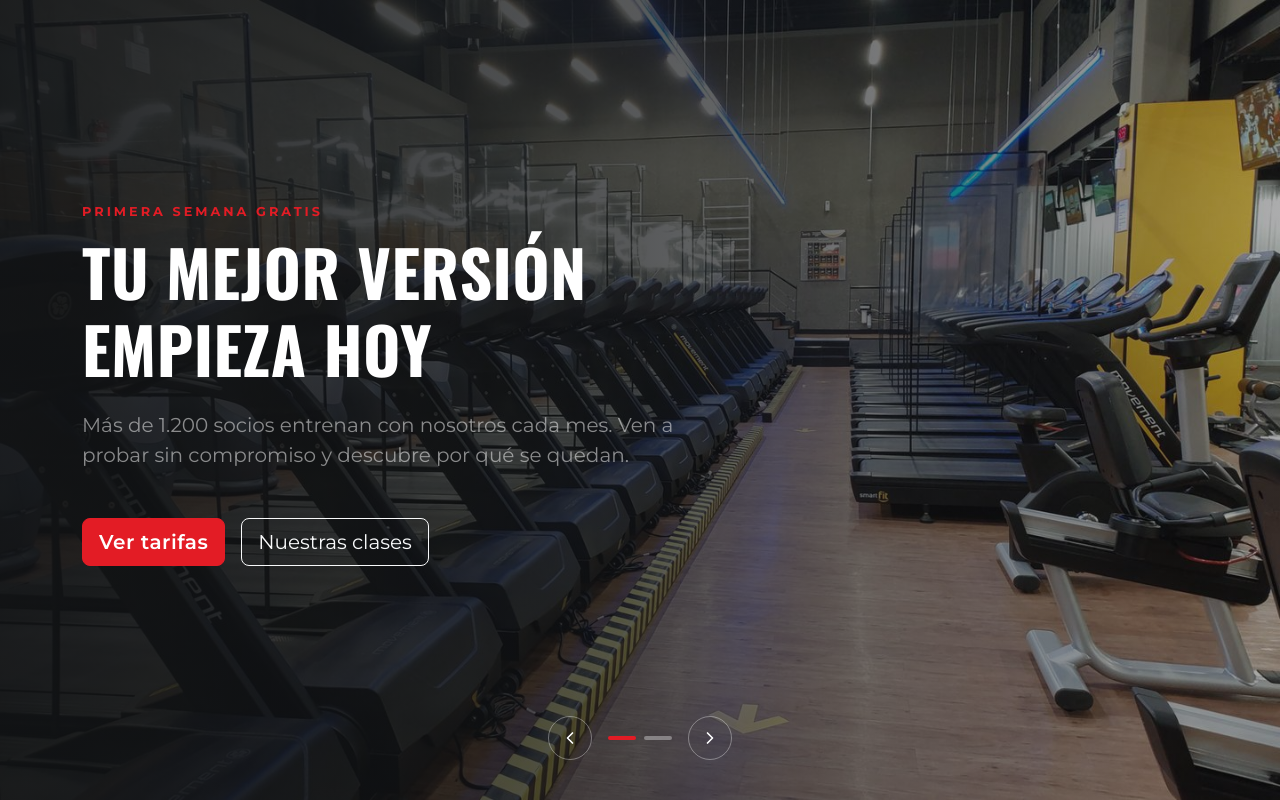
Test case: Hero › salta al slide que se pulse en los puntos
Click the tab named "Ir a la diapositiva 2".
click(658, 738)  # box [644, 736, 672, 740]
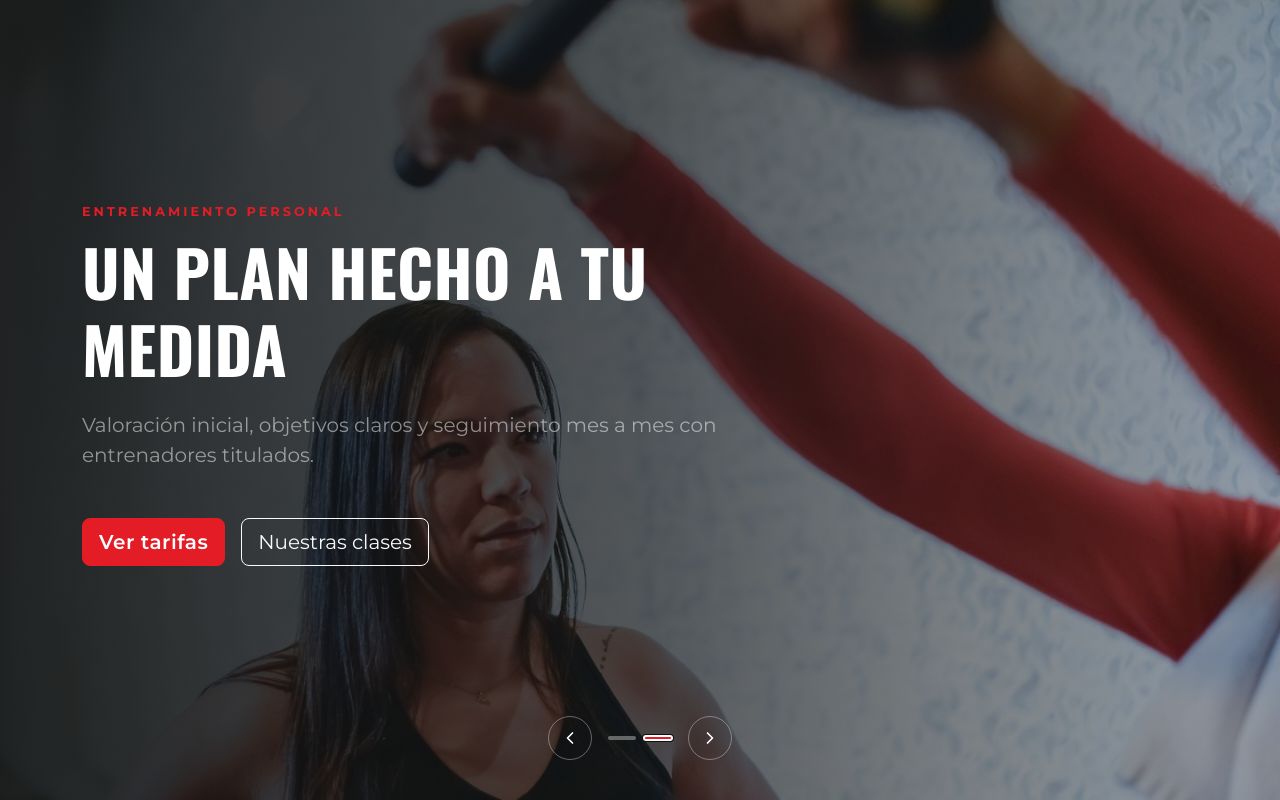
Check: the heading "Un plan hecho a tu medida" is shown, box [82, 233, 723, 386]
